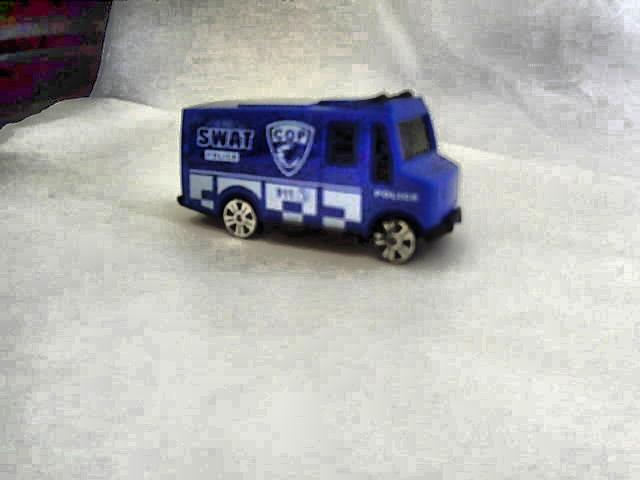police car: (175, 95, 463, 267)
